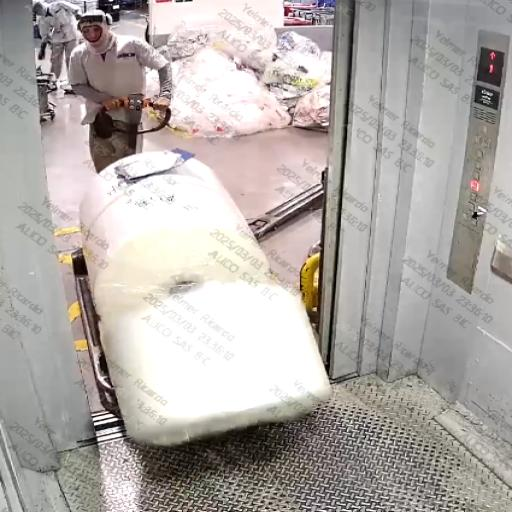rollos caidos: (90, 252, 364, 454)
